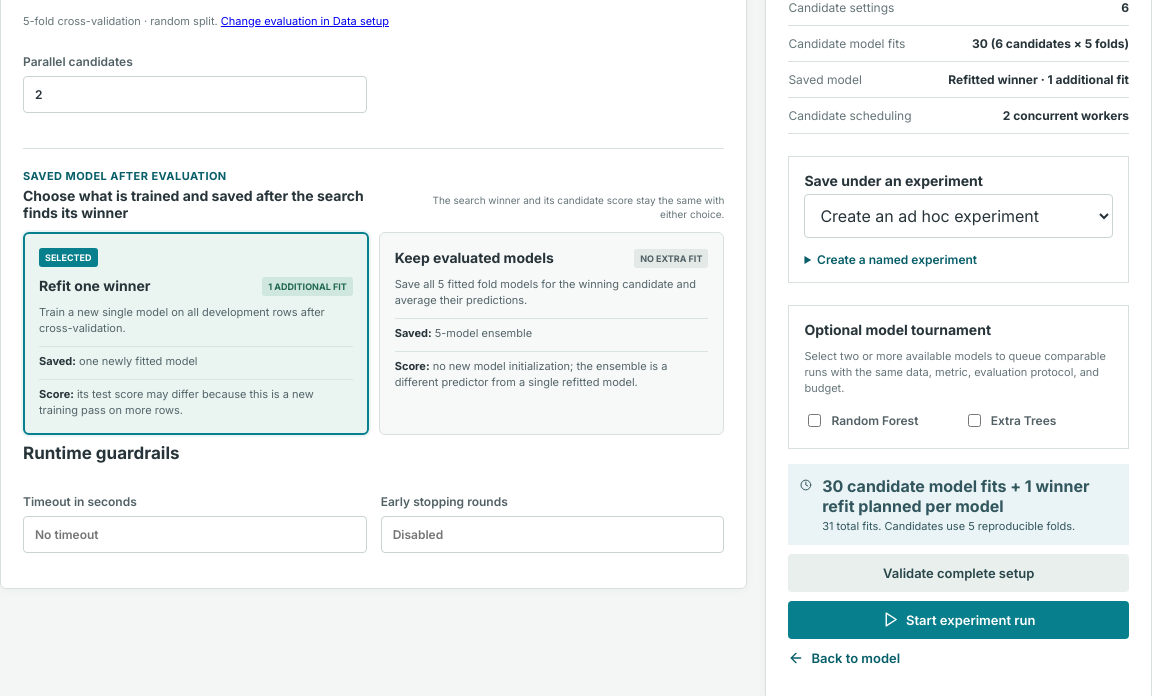
Test case: shows tournament validation failures and keeps the setup editable
(page scrolled)
Click the checkbox labelled "Random Forest" at (815, 420), box [808, 414, 821, 427]
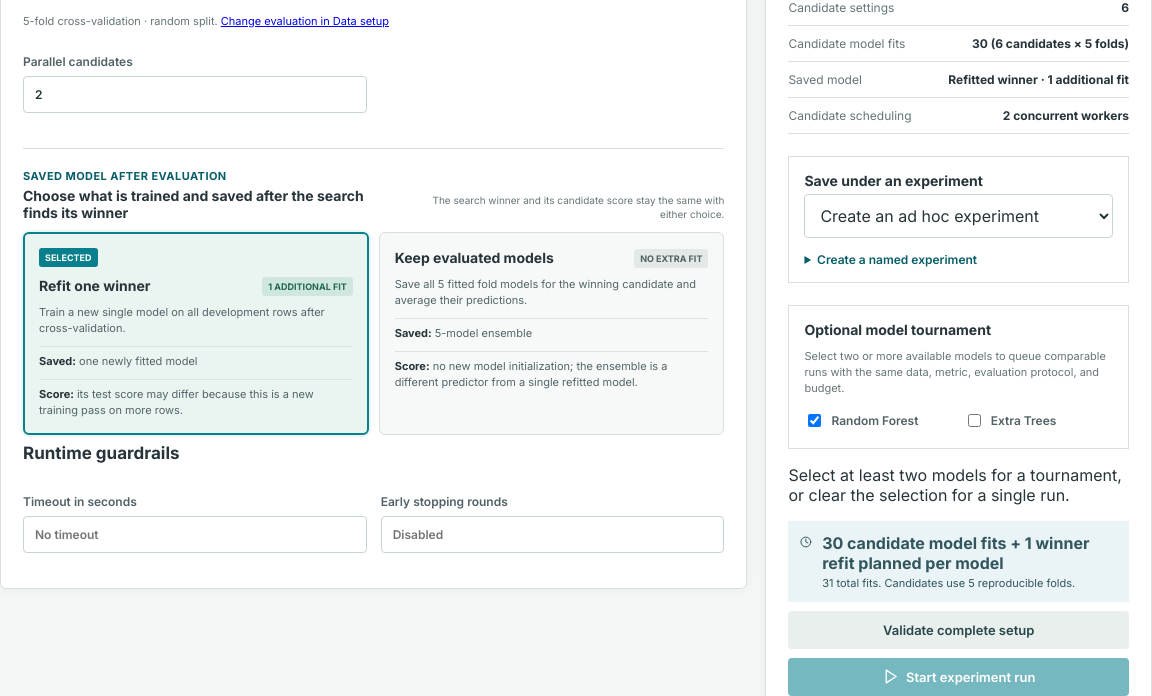
Click the checkbox labelled "Extra Trees" at (974, 420), box [968, 414, 981, 427]
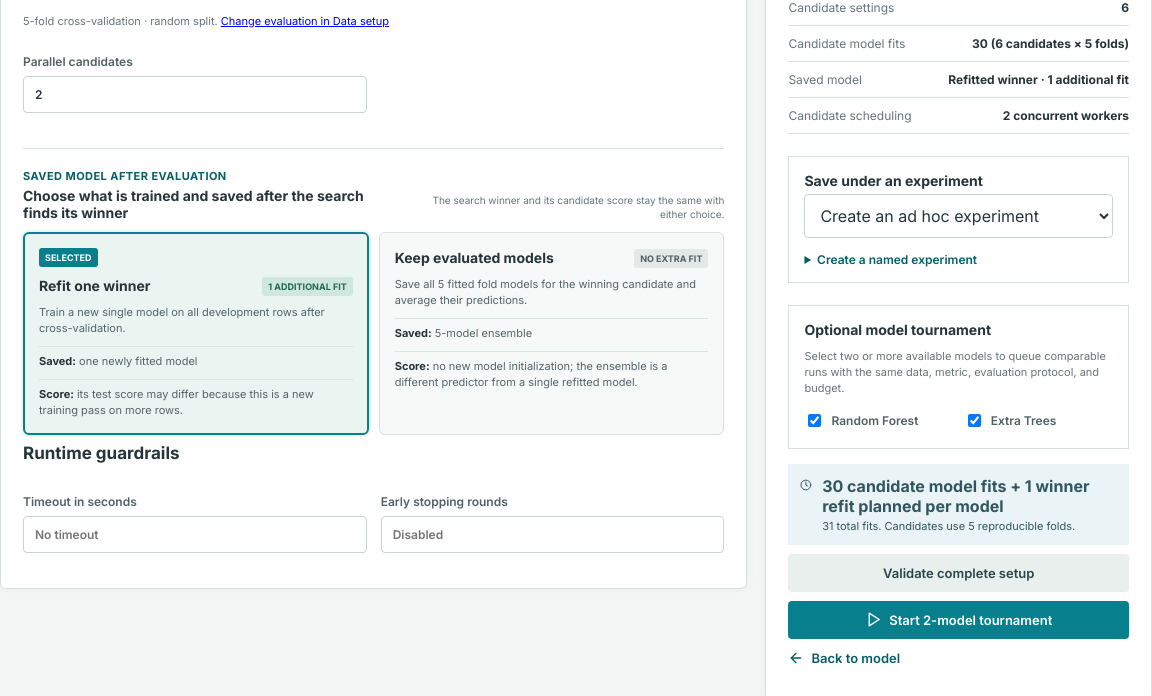
Click the button "Start 2-model tournament" at (959, 620), box [788, 601, 1129, 639]
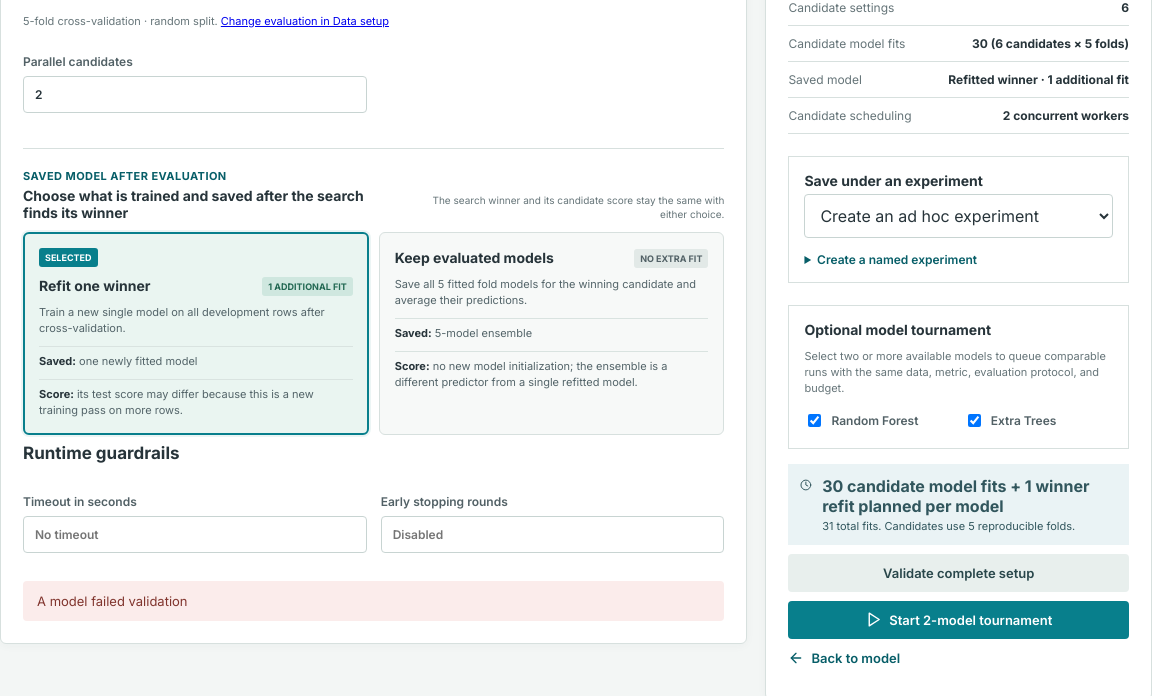
Expected: the button "Start 2-model tournament" is enabled, [788, 601, 1129, 639]
Expected: the message reads "A model failed validation", [37, 593, 188, 609]
